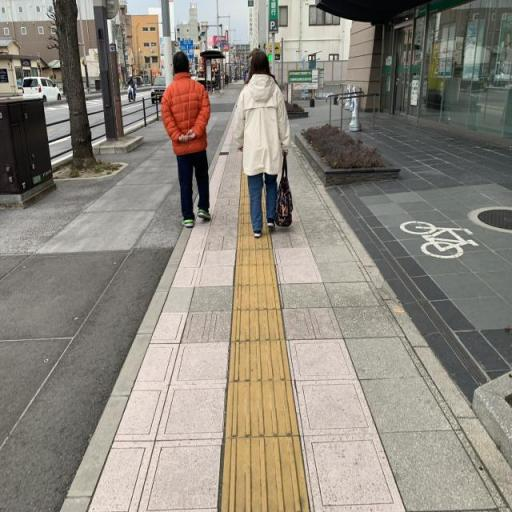line: (220, 435, 311, 511), (225, 380, 300, 438), (228, 339, 292, 382), (230, 308, 286, 342), (232, 285, 282, 310), (234, 264, 280, 286), (235, 248, 276, 266)
